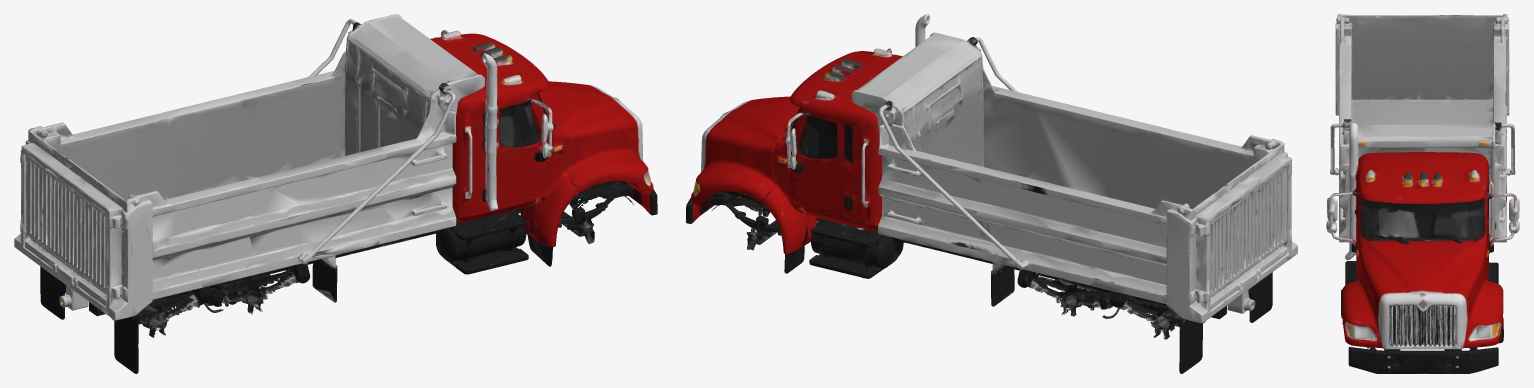
File: dumptruck.glb
3 renders of one model, left to right at view 1: azimuth 30°, elevation 25°; view 2: azimuth 150°, elevation 25°; view 3: azimuth 270°, elevation 25°, orthographic. The views are drawn at different scales.
Parts seen in each view (by area): view 1: dumpbed, dumptruck-body; view 2: dumpbed, dumptruck-body; view 3: dumptruck-body, dumpbed.
Boxes of the visible parts, bbox=[...] form: dumpbed: bbox=[14, 14, 480, 322]; dumptruck-body: bbox=[40, 14, 657, 373]; dumpbed: bbox=[854, 33, 1297, 324]; dumptruck-body: bbox=[686, 14, 1272, 373]; dumptruck-body: bbox=[1326, 123, 1519, 373]; dumpbed: bbox=[1330, 14, 1515, 242].
Bounding box in the file's own units: 7.86 × 3.06 × 2.73.
Materials: 1 (1 with a texture image).
